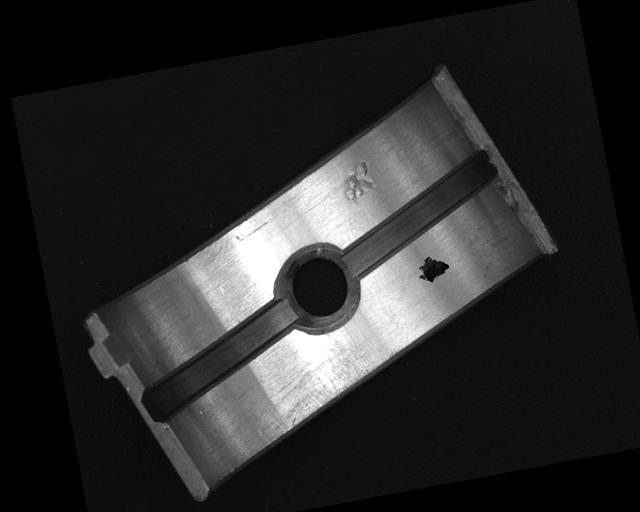blot: (414, 249, 453, 285)
bruise: (337, 158, 380, 209)
gap: (125, 292, 309, 425), (328, 147, 509, 279)
hole: (276, 238, 360, 339)
scratch: (244, 332, 391, 448)
